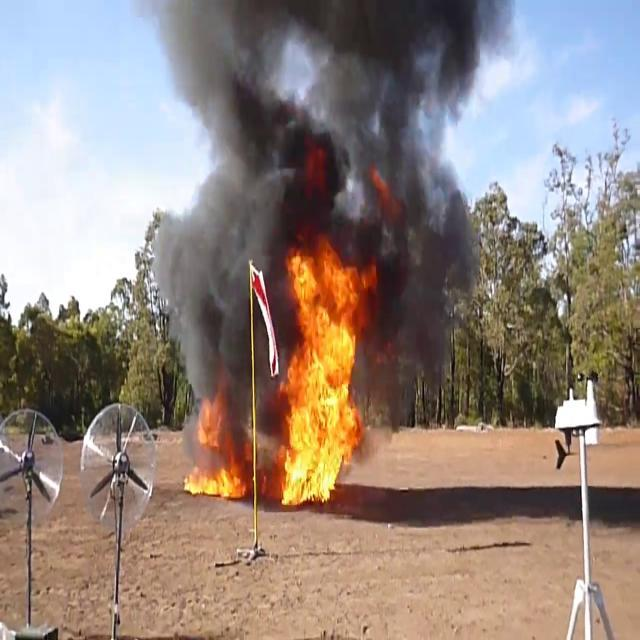Fire: (278, 240, 374, 510), (183, 392, 244, 502)
Smoke: (146, 1, 502, 360)
